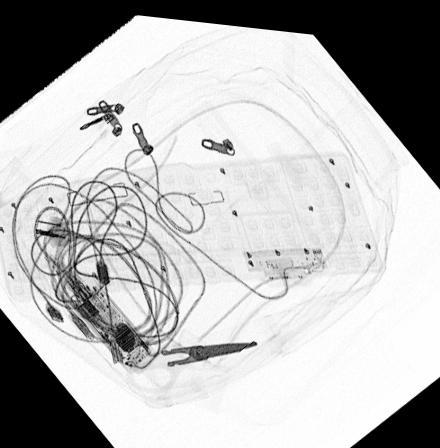Scissors: (106, 316, 258, 391)
